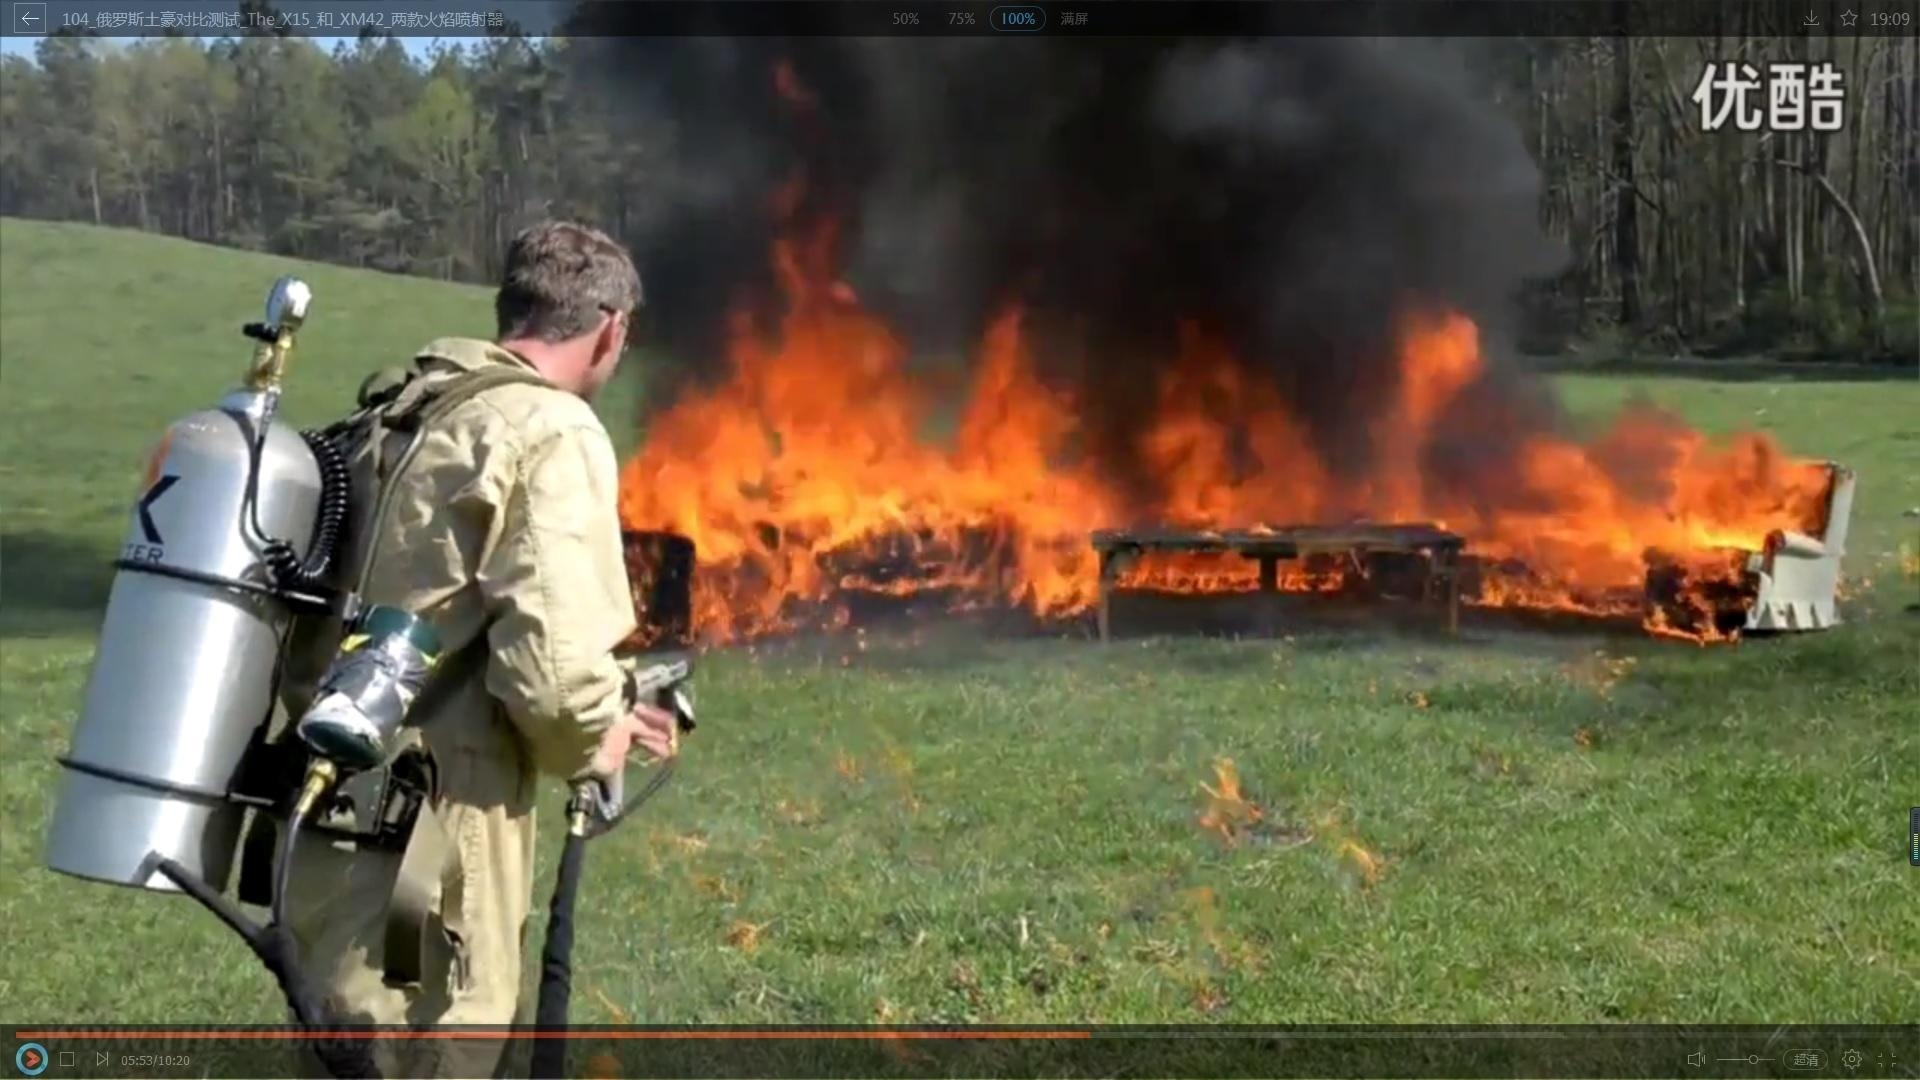fire: (582, 247, 1619, 609)
